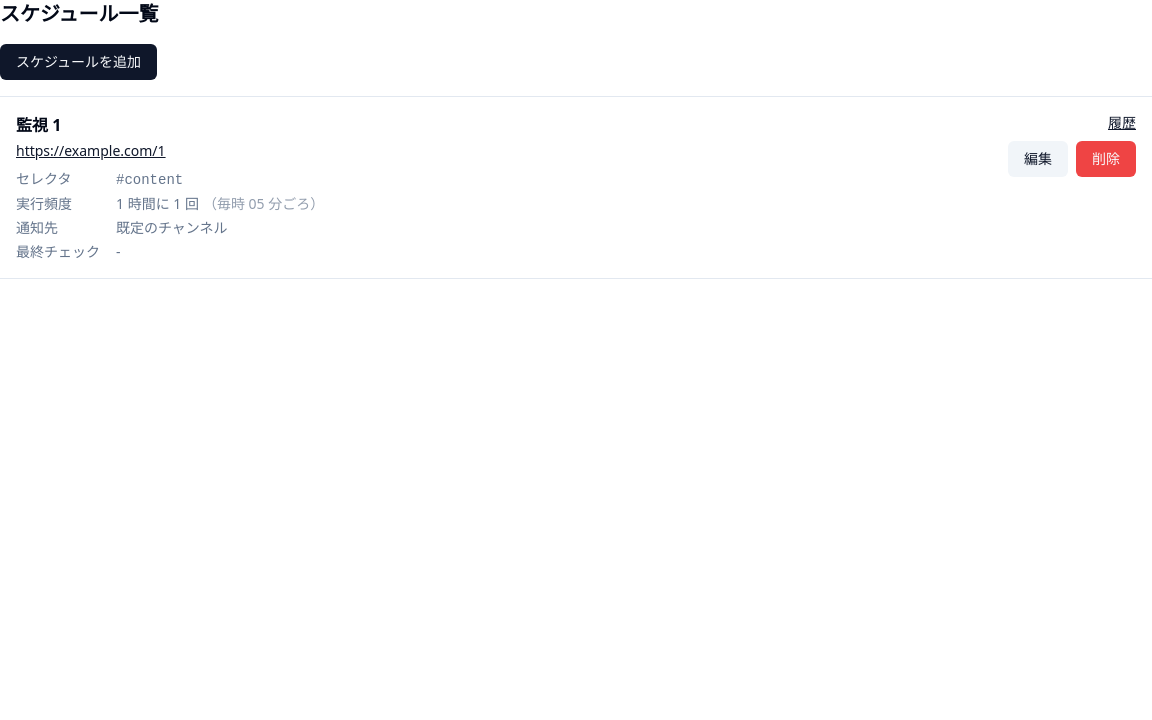
Test: ScheduleList — delete › keeps the row and reports the failure when the delete is rejected
Expected: the heading "監視 1" is shown, [16,114,61,136]
Click the button "削除". click: (1106, 159)
box: [1076,141,1136,177]
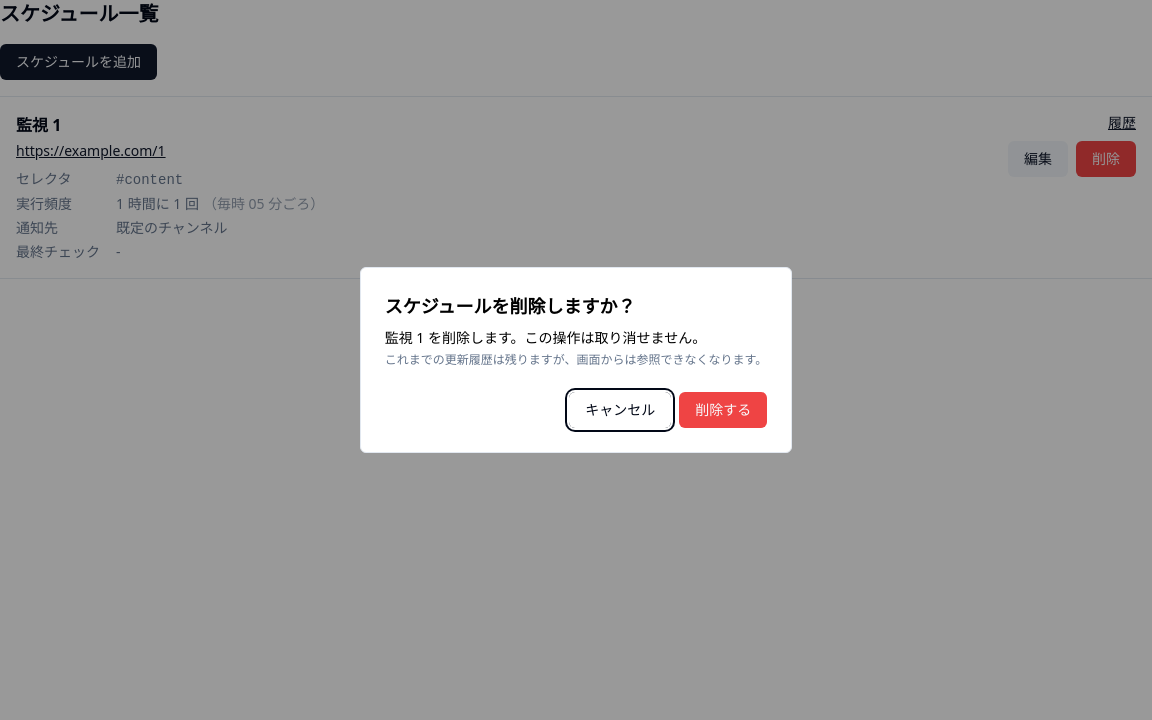
Click the button "削除する". click: (723, 410)
box: [679,392,767,428]
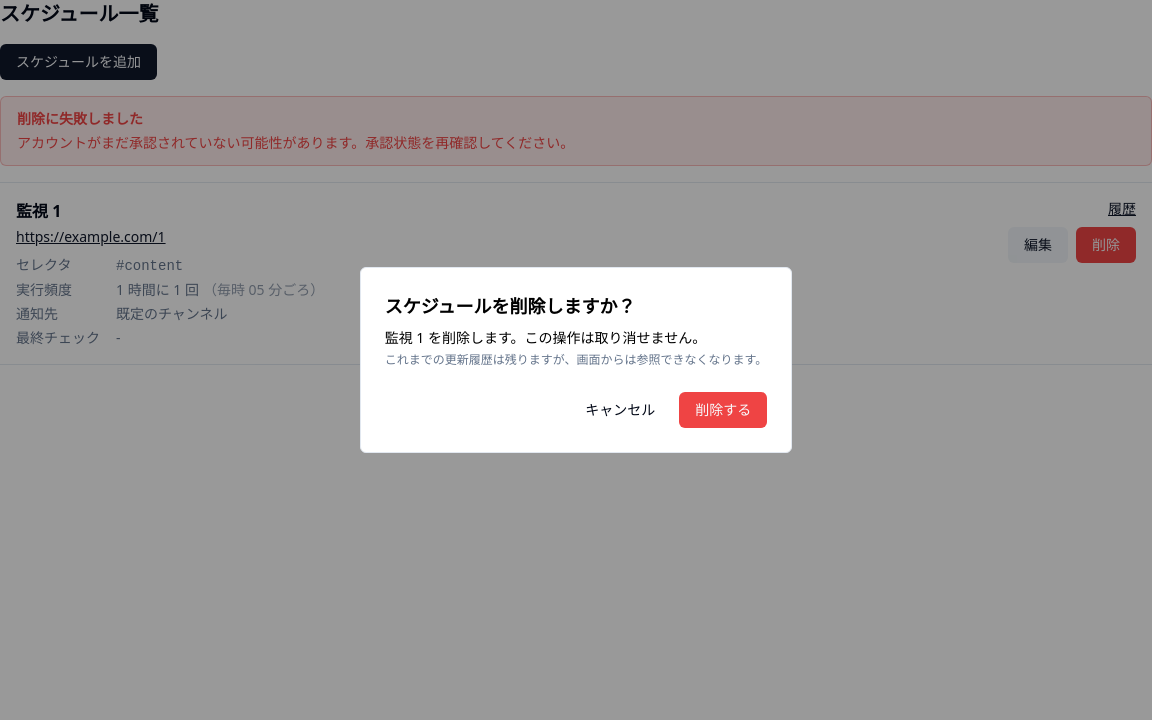
Expected: the list shows "監視 1", [16,200,61,222]
Now the text "削除に失敗しました" is shown, box [17,109,143,128]
